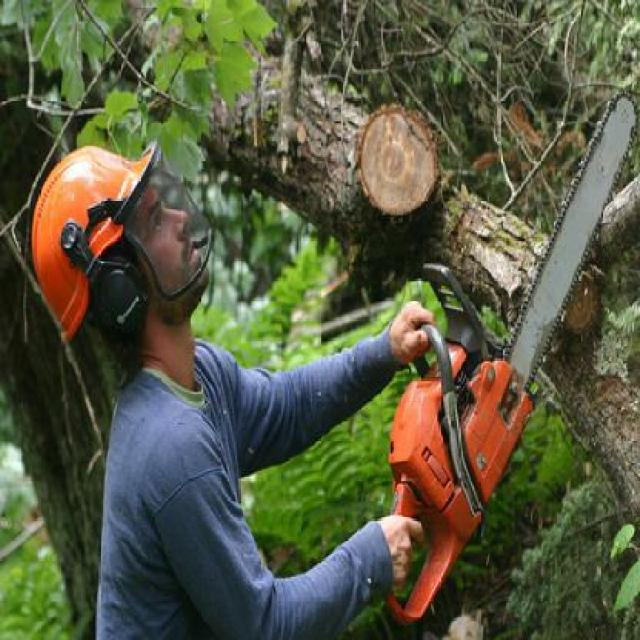Chainsaw: (378, 90, 636, 625)
